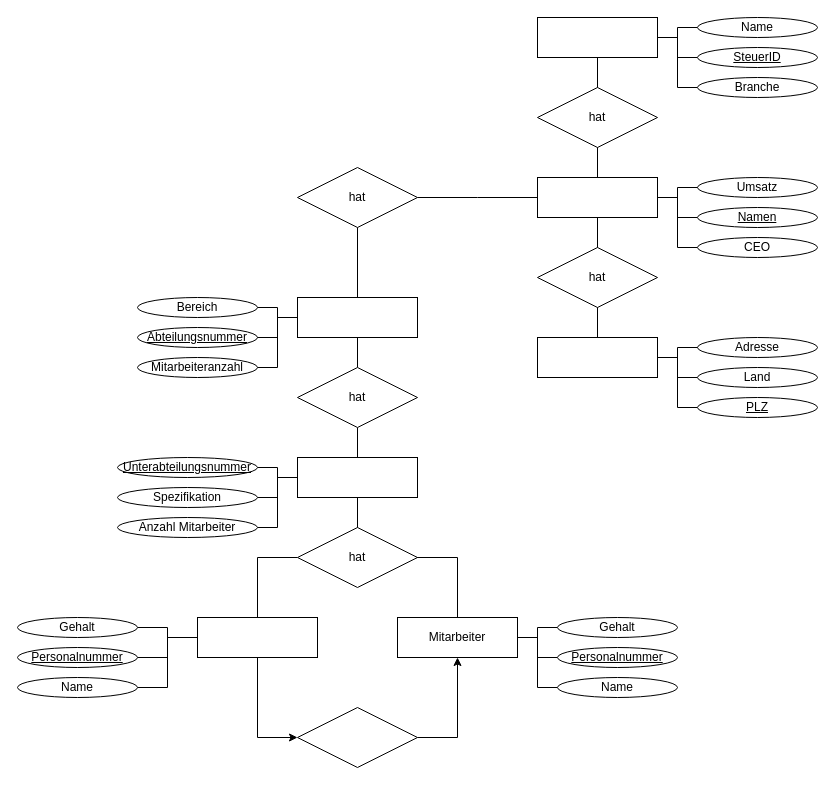
Image size: 835x785. Some labels were removed from this diagram. The shapes that lost their labels are listed below. From the top down, each one's centre as x and y in pixels, then its label:
the point at 597,37: Konzern
the point at 597,197: Teilkonzern
the point at 357,317: Abteilung
the point at 597,357: Standort
the point at 357,477: Unterabteilung
the point at 257,637: Abteilungsleiter
the point at 357,737: verantwortet
